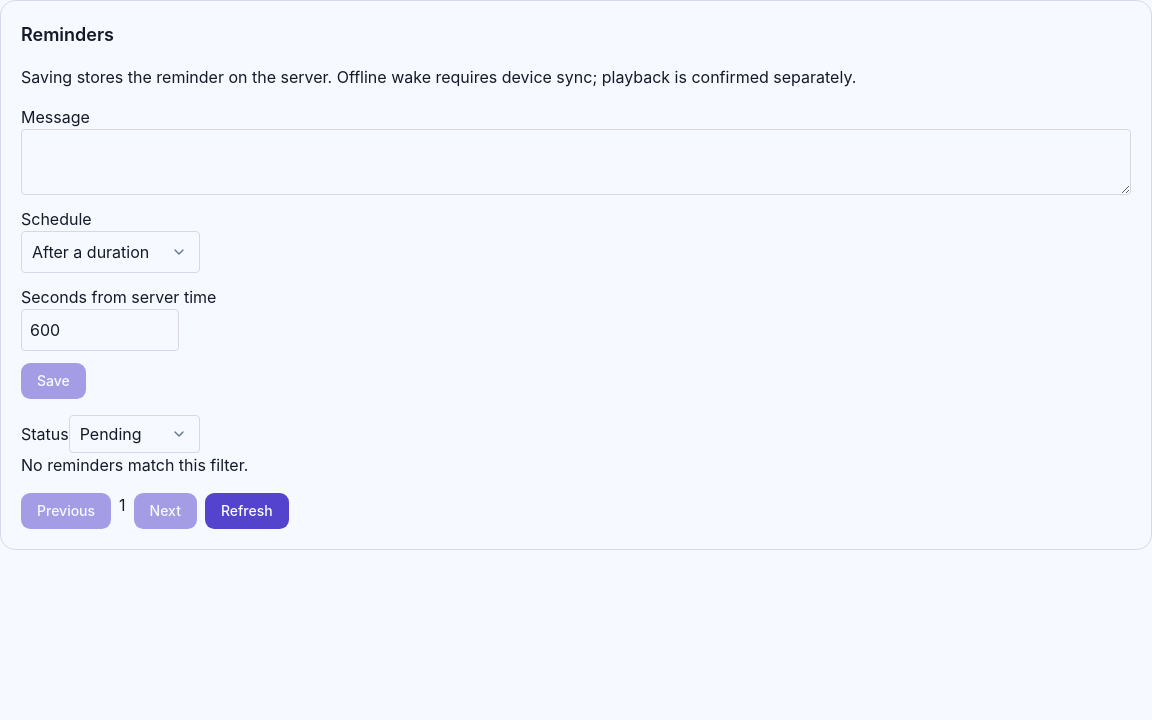
shows saved awaiting sync and keeps mutation identity on retry
Type "Check washer" into the text box labelled "Message".
click(576, 162); type("Check washer")  # box x1=21 y1=129 x2=1131 y2=195
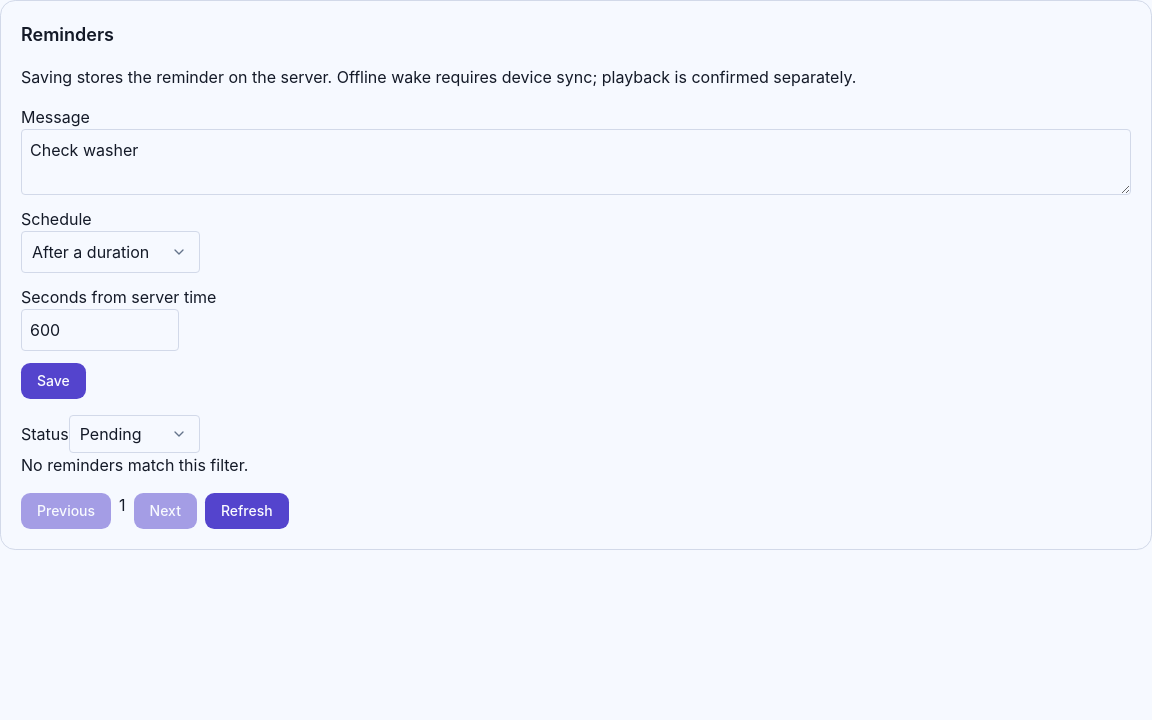
Submit the form, box x1=21 y1=105 x2=1131 y2=399
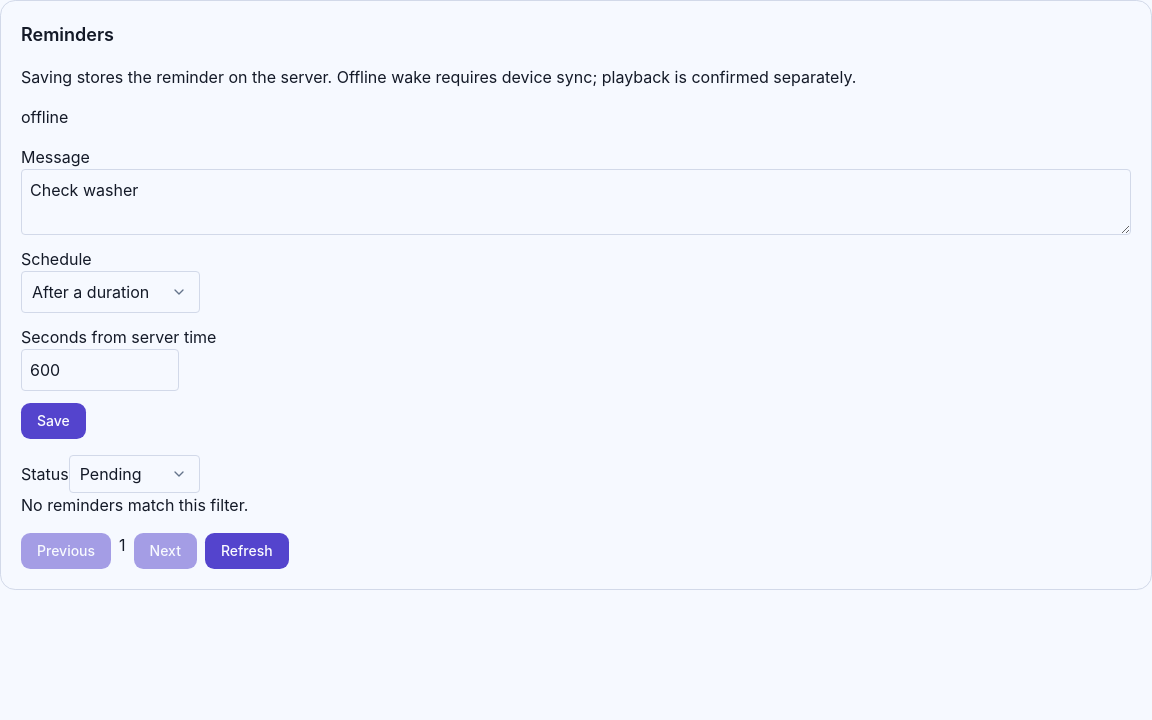
Submit the form, box x1=21 y1=145 x2=1131 y2=439
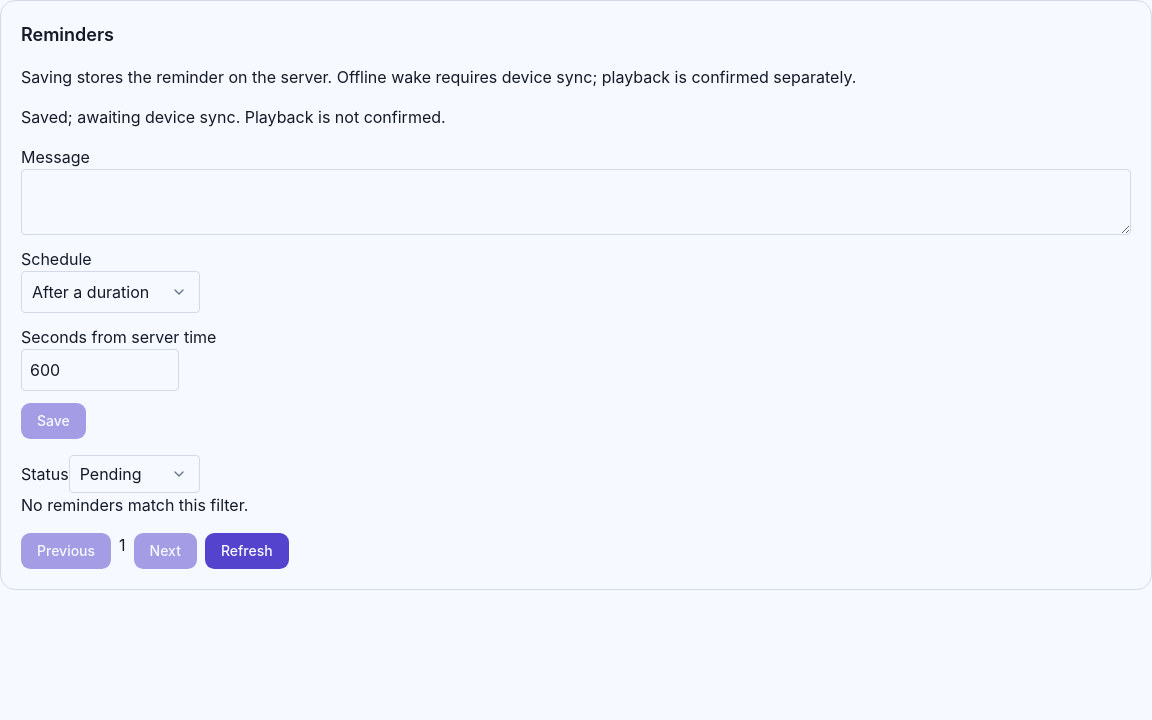
Result: the text "Saved" is shown at x1=21 y1=107 x2=446 y2=127
Result: the text "awaiting" is shown at x1=21 y1=107 x2=446 y2=127
